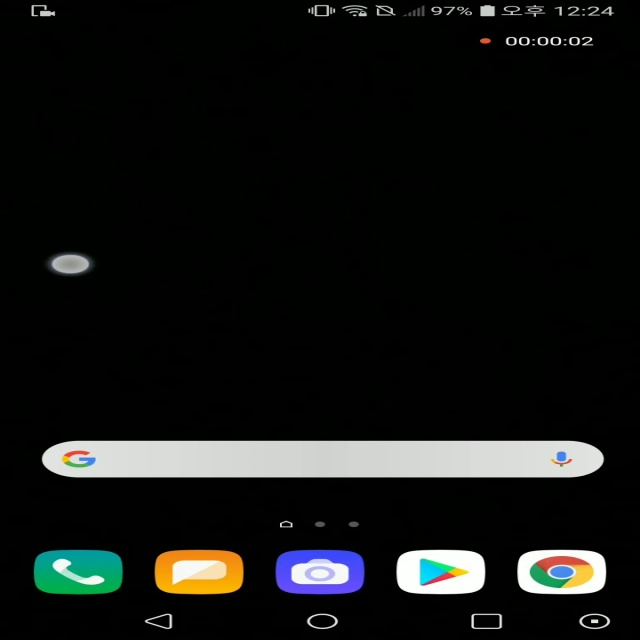Cursor: (48, 253, 93, 276)
